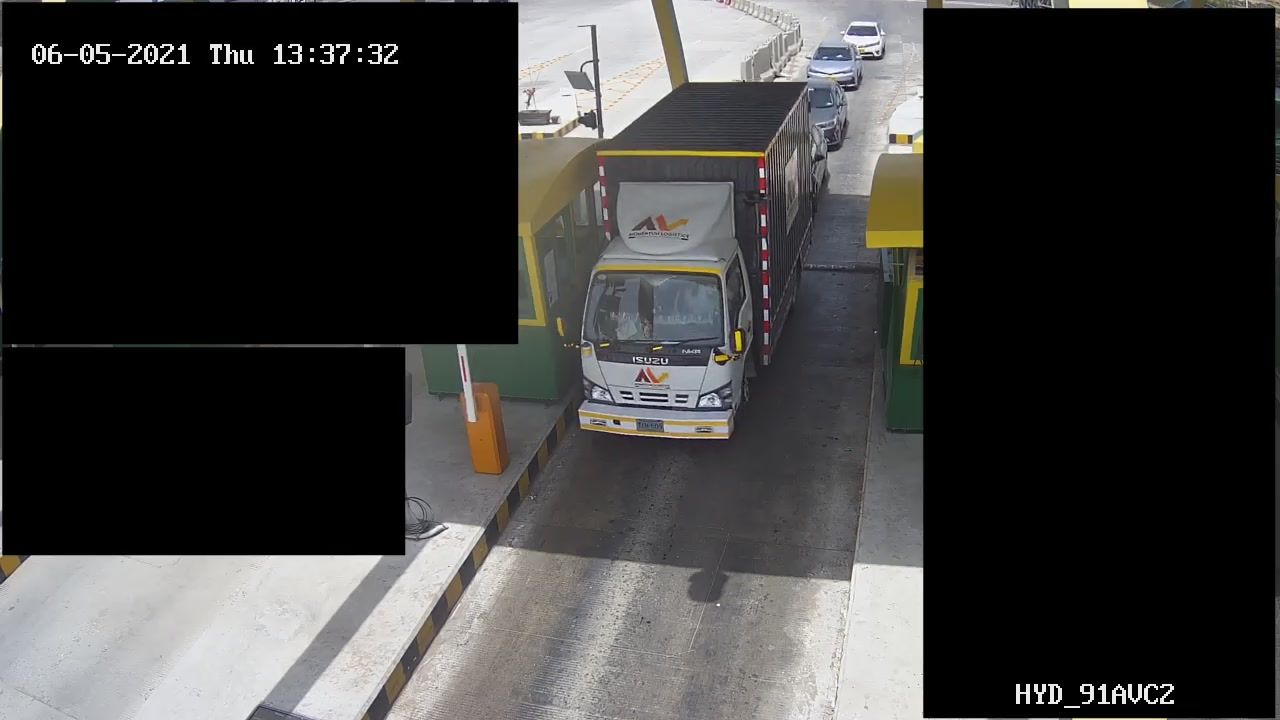F5: (566, 79, 813, 454)
